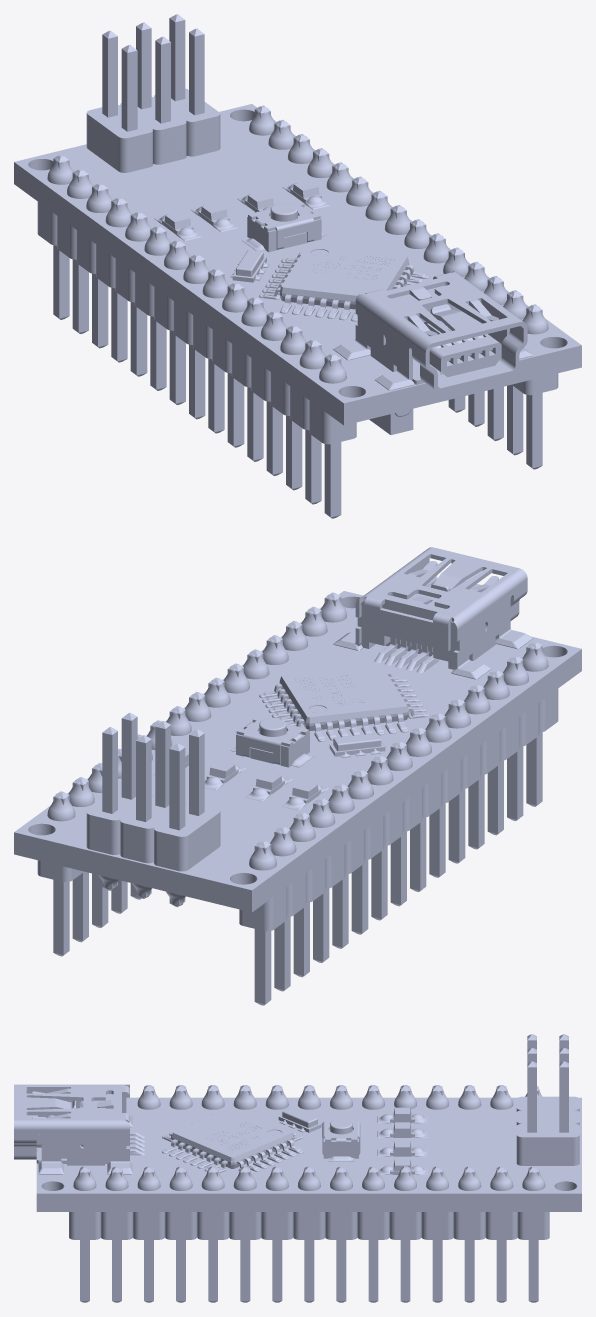
The model's file is nano-mra.glb.
3 views of the same model, one above another, from view 1: azimuth 30°, elevation 25°; view 2: azimuth 150°, elevation 25°; view 3: azimuth 270°, elevation 25° (orthographic). The views are drawn at different scales.
Visible parts, largest first — view 1: NAUO126; view 2: NAUO126; view 3: NAUO126.
Boxes of the visible parts, box(x1,y1,x2,y2) form: NAUO126: box(14, 14, 581, 518); NAUO126: box(14, 547, 581, 1005); NAUO126: box(14, 1034, 581, 1302).
Size of the model in its own units: 0.018 by 0.0186 by 0.045.
